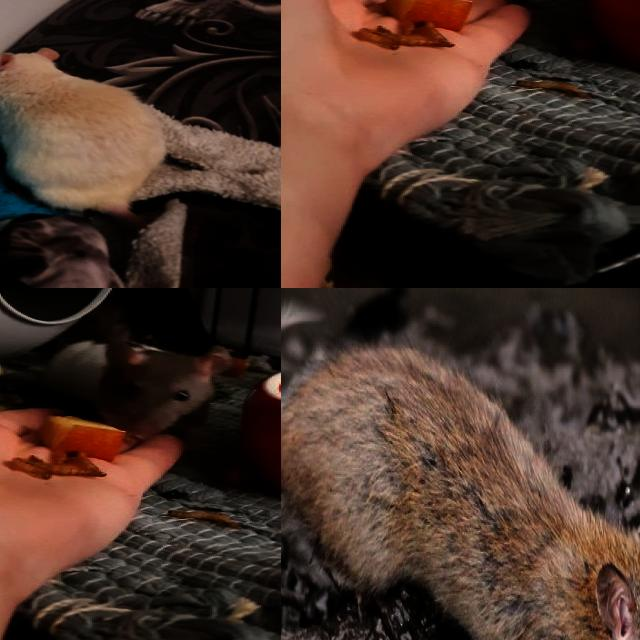rat: (281, 349, 640, 640), (0, 47, 168, 211), (45, 333, 224, 461)
